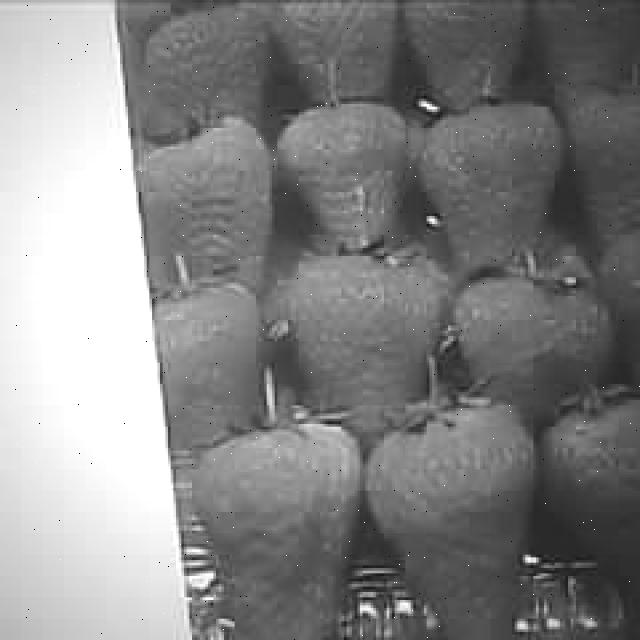ripe: (368, 413, 534, 640), (197, 424, 360, 640), (288, 256, 438, 438), (419, 102, 558, 270), (456, 277, 612, 423), (143, 126, 270, 290), (281, 102, 410, 248)
